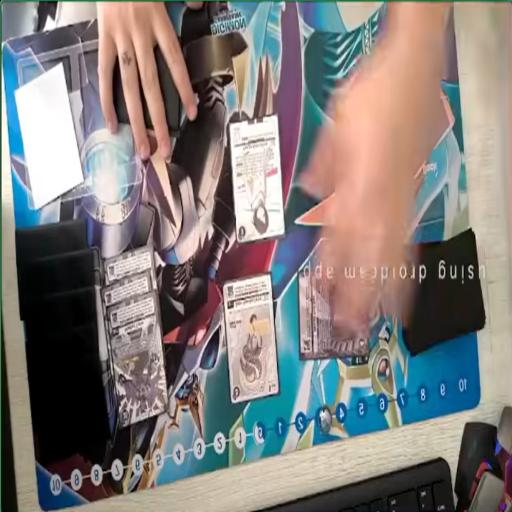card: (106, 292, 169, 424), (223, 274, 280, 407), (229, 111, 284, 246), (298, 266, 366, 362), (102, 244, 156, 287), (99, 271, 152, 312)
